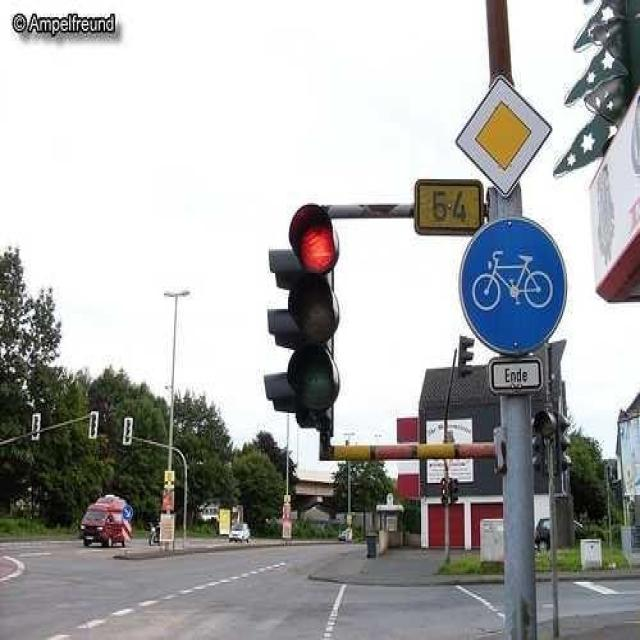Traffic Light -Red-: (275, 200, 346, 425)
